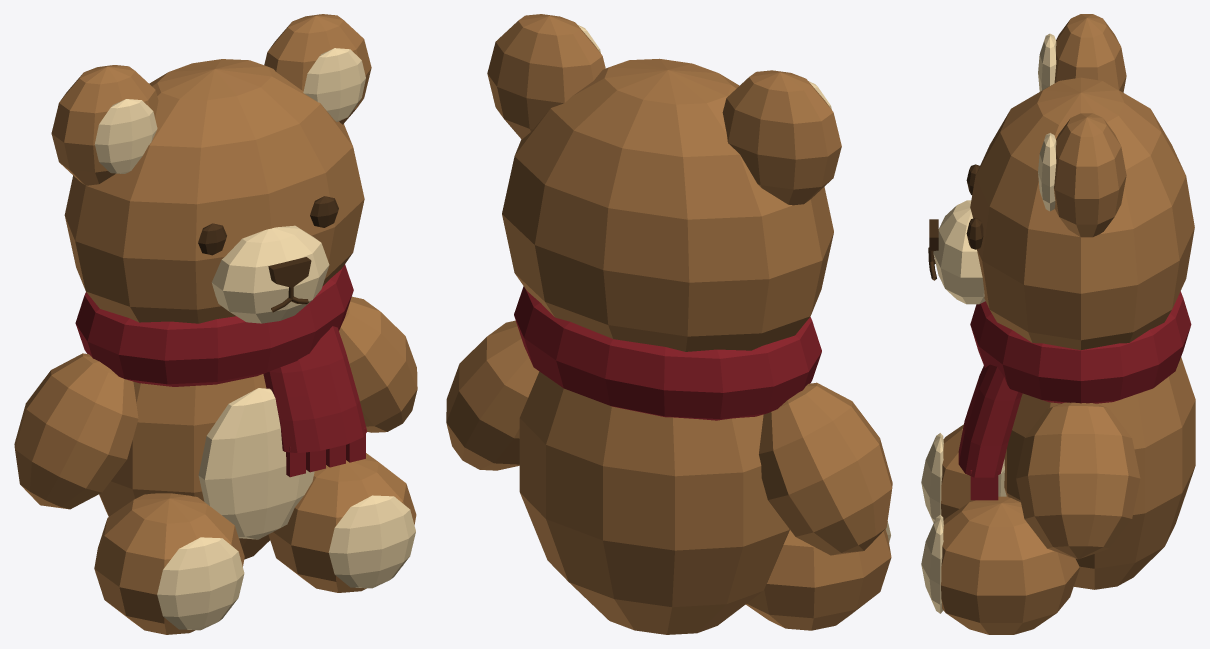
File: 19 Teddy Bear.glb
3 views of the same model, side by side, from view 1: azimuth 30°, elevation 25°; view 2: azimuth 150°, elevation 25°; view 3: azimuth 270°, elevation 25° (orthographic). The views are drawn at different scales.
Visible parts, largest first — view 1: Large rounded head, Thick padded wraparound scarf, Hanging soft arm.001, Cream belly bib, Plump seated body, Forward seated foot.001, Full padded hanging scarf end, Forward seated foot, Protruding cream muzzle, Hanging soft arm, Round outer ear.001, Cream sole patch.001 (+7 smaller); view 2: Large rounded head, Plump seated body, Thick padded wraparound scarf, Hanging soft arm.001, Round outer ear.001, Hanging soft arm, Round outer ear, Forward seated foot.001; view 3: Large rounded head, Hanging soft arm, Plump seated body, Forward seated foot, Thick padded wraparound scarf, Round outer ear, Full padded hanging scarf end, Round outer ear.001, Protruding cream muzzle, Forward seated foot.001, Cream sole patch.002, Cream sole patch.001 (+4 smaller).
Boxes of the visible parts, left/top/right/bottom form: Large rounded head: left=64, top=59, right=364, bottom=323; Thick padded wraparound scarf: left=75, top=264, right=353, bottom=386; Hanging soft arm.001: left=14, top=353, right=138, bottom=509; Cream belly bib: left=198, top=388, right=314, bottom=539; Plump seated body: left=99, top=374, right=269, bottom=559; Forward seated foot.001: left=94, top=493, right=244, bottom=634; Full padded hanging scarf end: left=263, top=326, right=367, bottom=453; Forward seated foot: left=268, top=453, right=416, bottom=592; Protruding cream muzzle: left=211, top=225, right=329, bottom=323; Hanging soft arm: left=339, top=296, right=417, bottom=432; Round outer ear.001: left=51, top=65, right=158, bottom=185; Cream sole patch.001: left=157, top=537, right=244, bottom=630; Large rounded head: left=502, top=58, right=833, bottom=351; Plump seated body: left=519, top=371, right=789, bottom=634; Thick padded wraparound scarf: left=514, top=286, right=821, bottom=420; Hanging soft arm.001: left=759, top=382, right=892, bottom=555; Round outer ear.001: left=722, top=70, right=841, bottom=205; Hanging soft arm: left=446, top=320, right=539, bottom=470; Round outer ear: left=487, top=14, right=605, bottom=139; Forward seated foot.001: left=746, top=529, right=891, bottom=630; Large rounded head: left=970, top=77, right=1194, bottom=350; Hanging soft arm: left=1016, top=402, right=1140, bottom=559; Plump seated body: left=1004, top=357, right=1195, bottom=589; Forward seated foot: left=941, top=496, right=1079, bottom=634; Thick padded wraparound scarf: left=970, top=291, right=1191, bottom=403; Round outer ear: left=1054, top=113, right=1126, bottom=237; Full padded hanging scarf end: left=958, top=364, right=1022, bottom=477; Round outer ear.001: left=1054, top=14, right=1126, bottom=92; Protruding cream muzzle: left=933, top=200, right=985, bottom=304; Forward seated foot.001: left=941, top=424, right=975, bottom=520; Cream sole patch.002: left=921, top=514, right=943, bottom=613; Cream sole patch.001: left=921, top=433, right=943, bottom=522.
Size of the model in its own units: 2.51 by 3.32 by 1.59.
